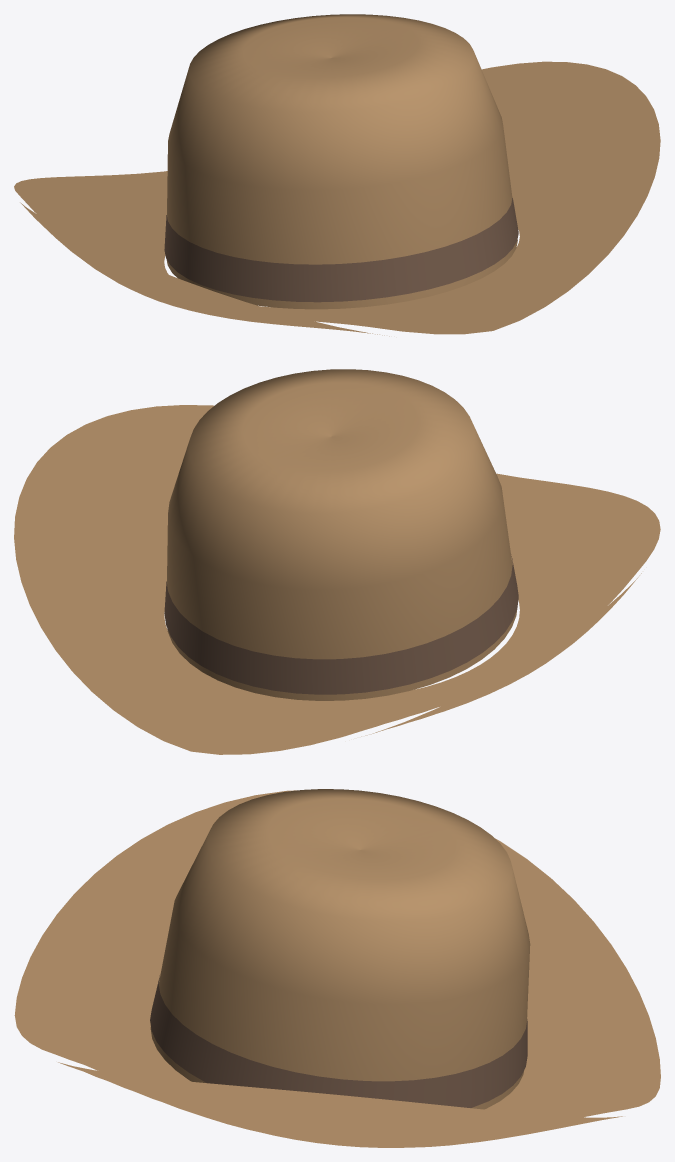
Rendered from cowboy-hat.glb.
The picture shows the model from 3 angles, top to bottom: view 1: azimuth 30°, elevation 25°; view 2: azimuth 150°, elevation 25°; view 3: azimuth 270°, elevation 25°; orthographic projection. The views are drawn at different scales.
Size of the model in its own units: 24 by 9.49 by 21.99.
